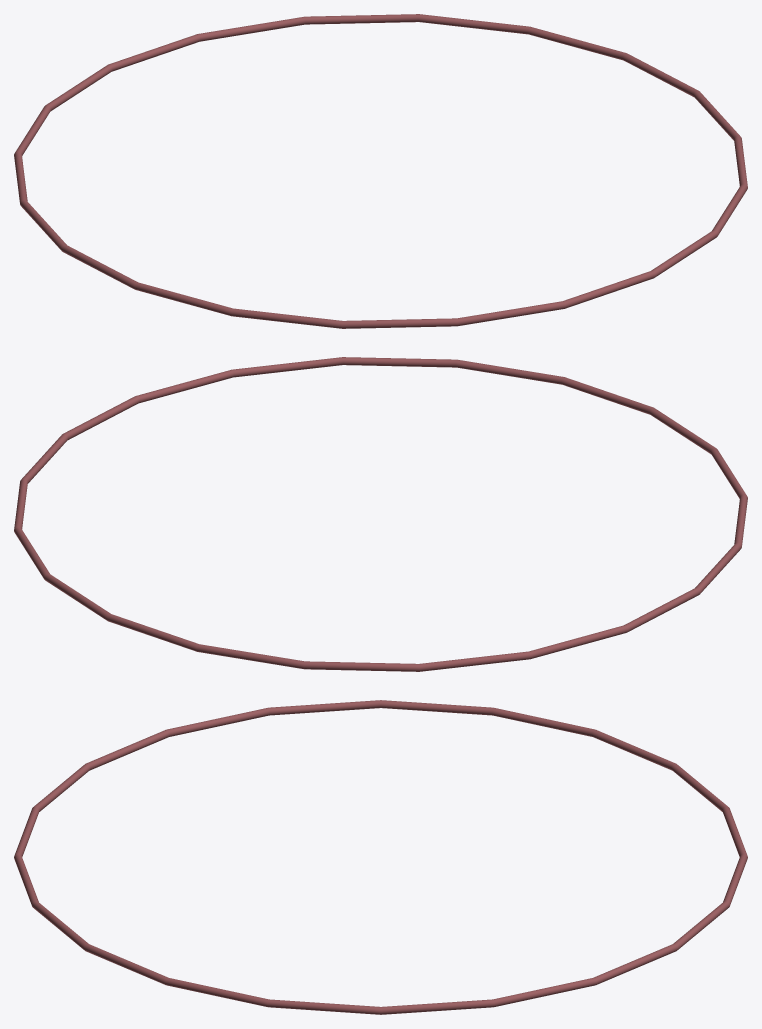
Rendered from distance_torus.fbx.
3 renders of one model, top to bottom at view 1: azimuth 30°, elevation 25°; view 2: azimuth 150°, elevation 25°; view 3: azimuth 270°, elevation 25°, orthographic.
Visible parts, largest first — view 1: pTorus1; view 2: pTorus1; view 3: pTorus1.
Part boxes in pixels (x1,y1,x2,y2): pTorus1: (14,14,747,328); pTorus1: (14,357,747,671); pTorus1: (14,700,747,1014).
Size of the model in its own units: 202 by 2.2 by 202.
